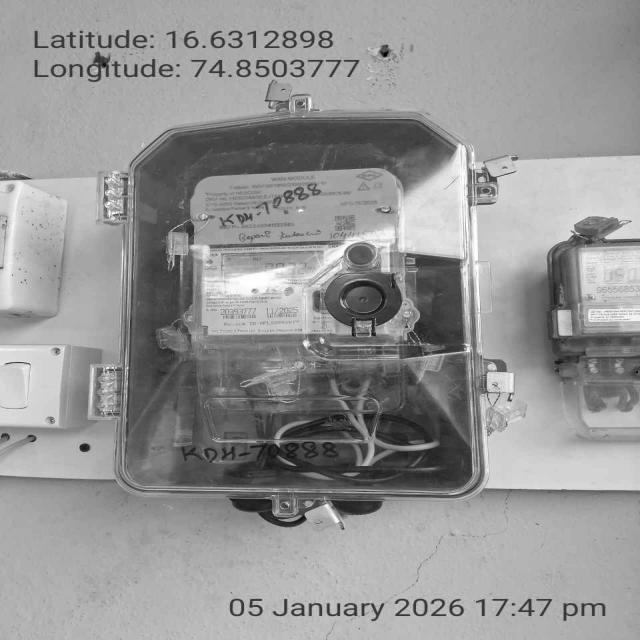meter: (193, 168, 420, 337)
